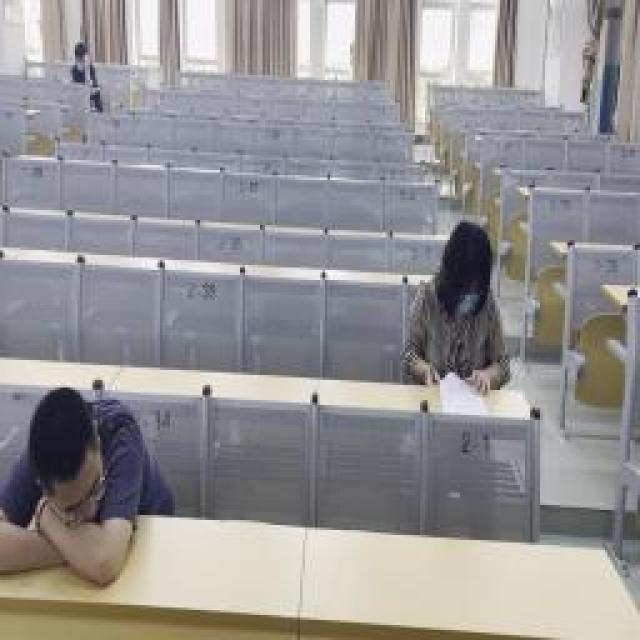sleep: (0, 390, 135, 588)
study: (403, 228, 505, 390), (68, 45, 92, 85)
